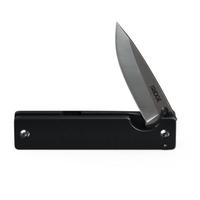knife: (8, 18, 185, 153), (105, 10, 184, 168)
